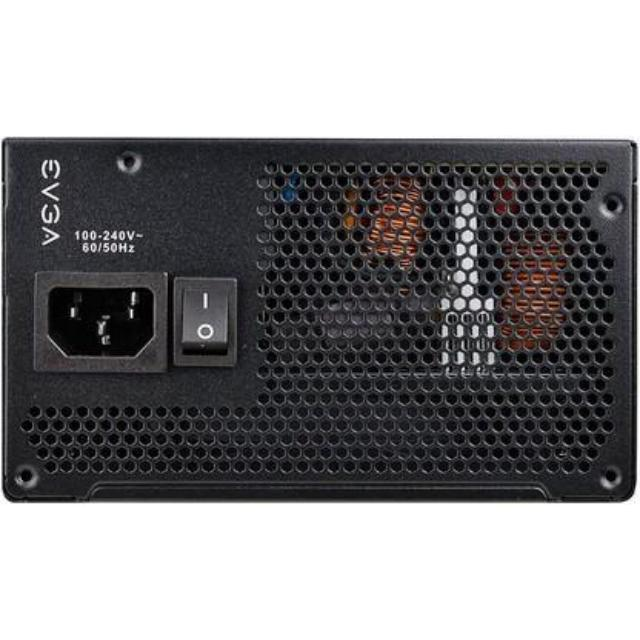PSU: (0, 109, 640, 524)
